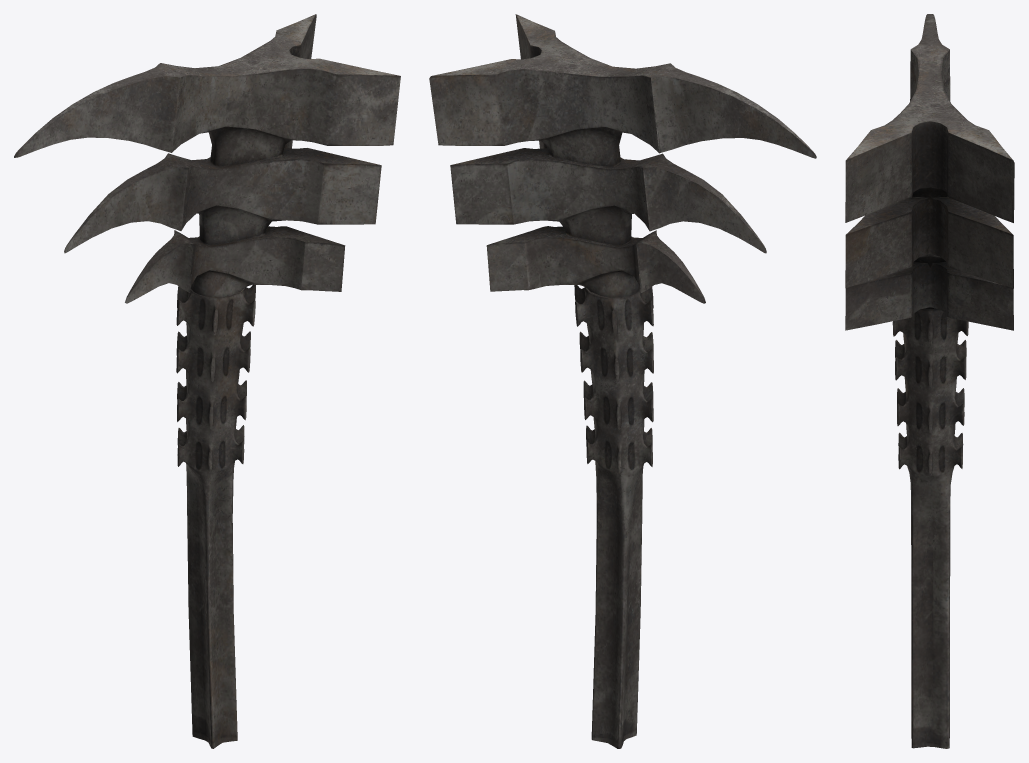
File: wm_gundabad_mace_b01_blade.fbx
The picture shows the model from 3 angles, left to right: view 1: azimuth 30°, elevation 25°; view 2: azimuth 150°, elevation 25°; view 3: azimuth 270°, elevation 25°; orthographic projection.
Visible parts, largest first — view 1: wm_gundabad_mace_b01_blade; view 2: wm_gundabad_mace_b01_blade; view 3: wm_gundabad_mace_b01_blade.
Boxes of the visible parts, x1,y1,x2,y2 form: wm_gundabad_mace_b01_blade: (14, 14, 400, 748); wm_gundabad_mace_b01_blade: (429, 14, 816, 748); wm_gundabad_mace_b01_blade: (845, 14, 1014, 748).
Size of the model in its own units: 0.45 by 0.1931 by 0.8475.
Materials: 1 (1 with a texture image).
